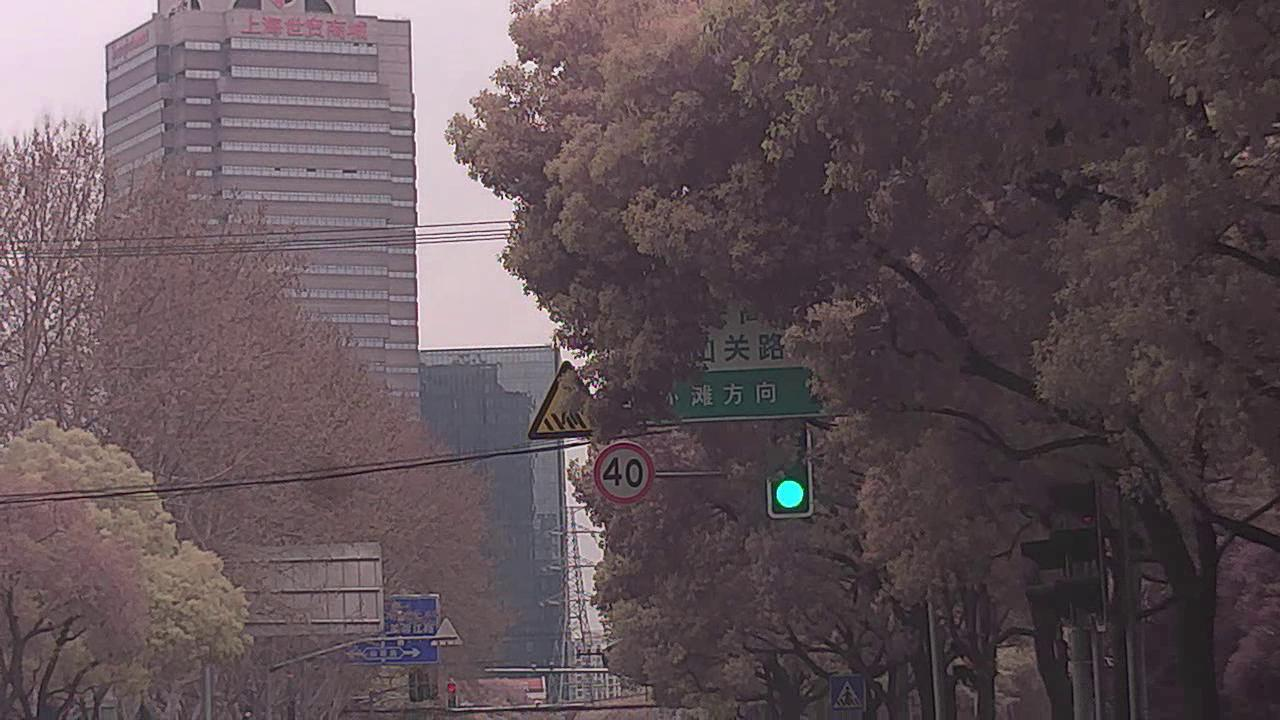traffic_light: (771, 435, 811, 514), (448, 682, 457, 707)
